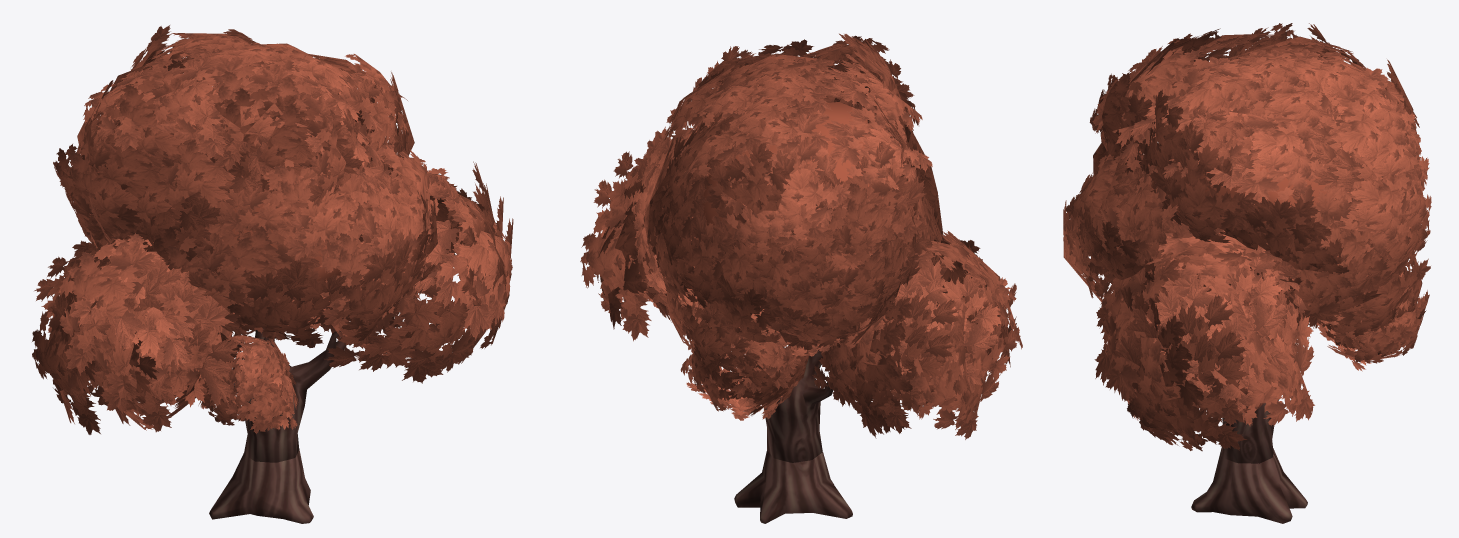
Rendered from tree_oak.fbx.
3 renders of one model, left to right at view 1: azimuth 30°, elevation 25°; view 2: azimuth 150°, elevation 25°; view 3: azimuth 270°, elevation 25°, orthographic. The views are drawn at different scales.
Parts seen in each view (by area): view 1: oak_leaf.002, oak_stump.001; view 2: oak_leaf.002, oak_stump.001; view 3: oak_leaf.002, oak_stump.001.
Boxes of the visible parts, x1=… form: oak_leaf.002: x1=32, y1=25, x2=513, y2=462; oak_stump.001: x1=209, y1=449, x2=313, y2=523; oak_leaf.002: x1=580, y1=33, x2=1022, y2=462; oak_stump.001: x1=734, y1=450, x2=852, y2=523; oak_leaf.002: x1=1063, y1=23, x2=1431, y2=463; oak_stump.001: x1=1191, y1=448, x2=1307, y2=523.
Bounding box in the file's own units: 780 × 771 × 579.
